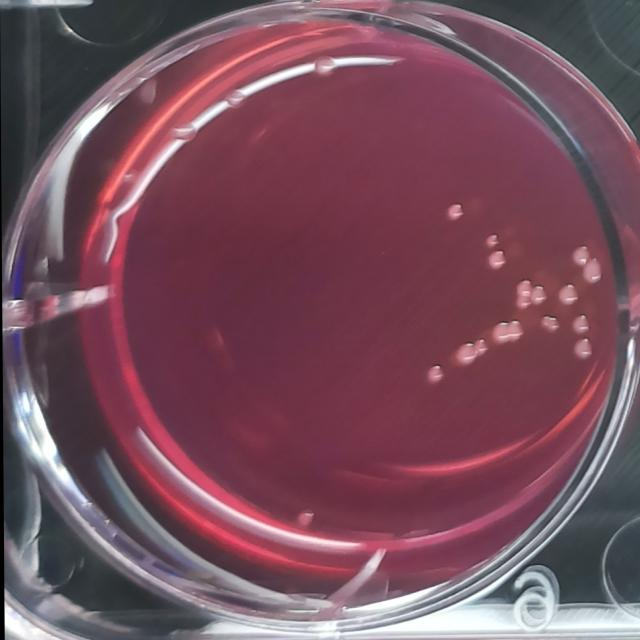Bacillus: (451, 338, 491, 368), (513, 275, 547, 309), (490, 318, 528, 346), (568, 336, 595, 364), (555, 279, 580, 309), (581, 256, 605, 286), (567, 242, 592, 270), (442, 198, 468, 224), (423, 360, 447, 388), (483, 248, 510, 272), (536, 314, 562, 334), (570, 312, 592, 334), (484, 230, 502, 247)
